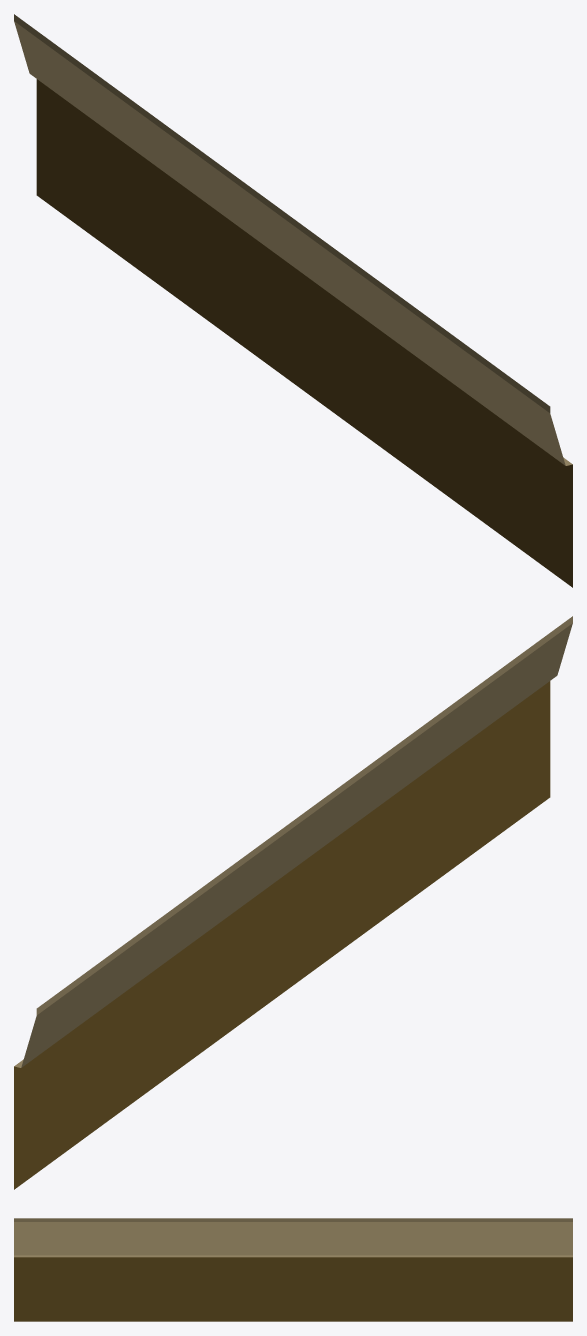
File: Fancy Wall short.fbx
3 views of the same model, one above another, from view 1: azimuth 30°, elevation 25°; view 2: azimuth 150°, elevation 25°; view 3: azimuth 270°, elevation 25° (orthographic). The views are drawn at different scales.
Visible parts, largest first — view 1: pPlane10; view 2: pPlane10; view 3: pPlane10.
Boxes of the visible parts, x1=… form: pPlane10: x1=14, y1=14, x2=572, y2=587; pPlane10: x1=14, y1=616, x2=572, y2=1189; pPlane10: x1=14, y1=1218, x2=572, y2=1321.
Size of the model in its own units: 4.03 by 31.74 by 165.
